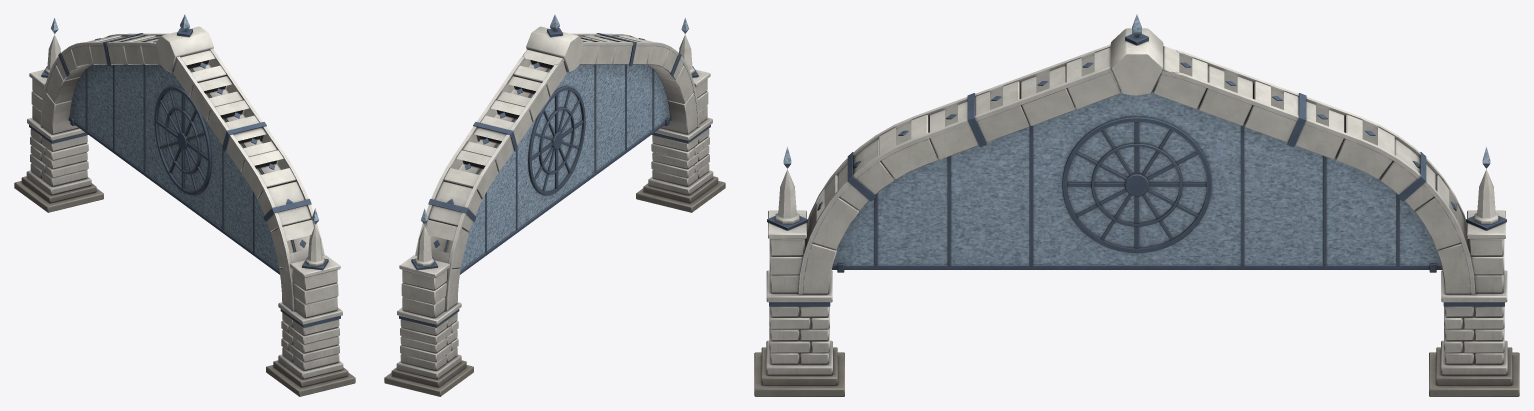
File: dawn_arch.glb
The picture shows the model from 3 angles, left to right: view 1: azimuth 30°, elevation 25°; view 2: azimuth 150°, elevation 25°; view 3: azimuth 270°, elevation 25°; orthographic projection. The views are drawn at different scales.
Parts seen in each view (by area): view 1: dawn_arch_body; view 2: dawn_arch_body; view 3: dawn_arch_body.
Boxes of the visible parts, x1,y1,x2,y2 form: dawn_arch_body: [14, 14, 355, 396]; dawn_arch_body: [384, 14, 725, 396]; dawn_arch_body: [754, 14, 1519, 396].
Bounding box in the file's own units: 3 × 13.73 × 26.1.
1 material, 1 textured.
